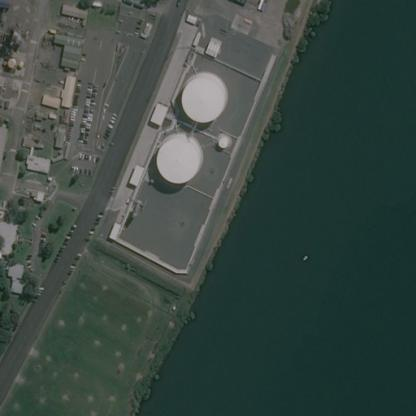ship: (298, 251, 310, 262)
